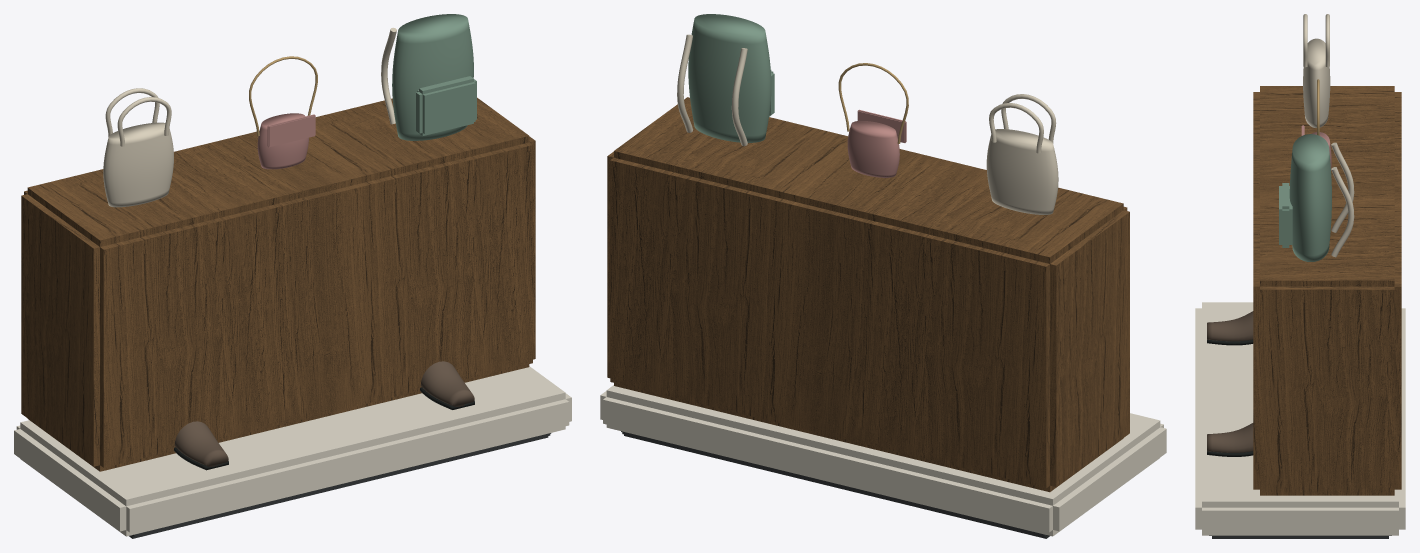
Rendered from collection_v29_apparel_3.glb.
The picture shows the model from 3 angles, left to right: view 1: azimuth 30°, elevation 25°; view 2: azimuth 150°, elevation 25°; view 3: azimuth 270°, elevation 25°; orthographic projection. The views are drawn at different scales.
Visible parts, largest first — view 1: collection_v29_apparel_3_CC0_Oak_veneer, collection_v29_apparel_3_V29_ivory_lacquer, collection_v29_apparel_3_V23_soft_sage, collection_v29_apparel_3_V23_natural_canvas.002, collection_v29_apparel_3_V23_mineral_rose, collection_v29_apparel_3_Anodised_graphite, collection_v29_apparel_3_V23_smooth_leather, collection_v29_apparel_3_V23_smooth_leather.001, collection_v29_apparel_3_V23_natural_canvas.003; view 2: collection_v29_apparel_3_CC0_Oak_veneer, collection_v29_apparel_3_V29_ivory_lacquer, collection_v29_apparel_3_V23_soft_sage, collection_v29_apparel_3_V23_natural_canvas.002, collection_v29_apparel_3_V23_mineral_rose, collection_v29_apparel_3_Anodised_graphite, collection_v29_apparel_3_V23_natural_canvas.003; view 3: collection_v29_apparel_3_CC0_Oak_veneer, collection_v29_apparel_3_V29_ivory_lacquer, collection_v29_apparel_3_V23_soft_sage, collection_v29_apparel_3_V23_natural_canvas.002, collection_v29_apparel_3_V23_natural_canvas.003, collection_v29_apparel_3_V23_smooth_leather, collection_v29_apparel_3_V23_smooth_leather.001, collection_v29_apparel_3_Anodised_graphite.
Boxes of the visible parts, x1,y1,x2,y2 form: collection_v29_apparel_3_CC0_Oak_veneer: [21, 97, 535, 471]; collection_v29_apparel_3_V29_ivory_lacquer: [14, 366, 571, 536]; collection_v29_apparel_3_V23_soft_sage: [392, 14, 476, 140]; collection_v29_apparel_3_V23_natural_canvas.002: [103, 88, 173, 207]; collection_v29_apparel_3_V23_mineral_rose: [257, 113, 315, 169]; collection_v29_apparel_3_Anodised_graphite: [129, 433, 551, 538]; collection_v29_apparel_3_V23_smooth_leather: [174, 421, 228, 466]; collection_v29_apparel_3_V23_smooth_leather.001: [420, 361, 474, 406]; collection_v29_apparel_3_V23_natural_canvas.003: [381, 27, 396, 124]; collection_v29_apparel_3_CC0_Oak_veneer: [607, 97, 1129, 492]; collection_v29_apparel_3_V29_ivory_lacquer: [600, 385, 1166, 536]; collection_v29_apparel_3_V23_soft_sage: [688, 14, 774, 142]; collection_v29_apparel_3_V23_natural_canvas.002: [986, 94, 1058, 214]; collection_v29_apparel_3_V23_mineral_rose: [847, 109, 906, 177]; collection_v29_apparel_3_Anodised_graphite: [621, 431, 1049, 538]; collection_v29_apparel_3_V23_natural_canvas.003: [677, 34, 747, 146]; collection_v29_apparel_3_CC0_Oak_veneer: [1253, 86, 1401, 495]; collection_v29_apparel_3_V29_ivory_lacquer: [1195, 302, 1405, 535]; collection_v29_apparel_3_V23_soft_sage: [1279, 134, 1331, 261]; collection_v29_apparel_3_V23_natural_canvas.002: [1303, 14, 1330, 127]; collection_v29_apparel_3_V23_natural_canvas.003: [1331, 142, 1354, 257]; collection_v29_apparel_3_V23_smooth_leather: [1207, 311, 1253, 341]; collection_v29_apparel_3_V23_smooth_leather.001: [1207, 423, 1253, 452]; collection_v29_apparel_3_Anodised_graphite: [1209, 535, 1391, 538].
Size of the model in its own units: 1.8 by 1.48 by 0.78.
12 materials, 1 textured.
